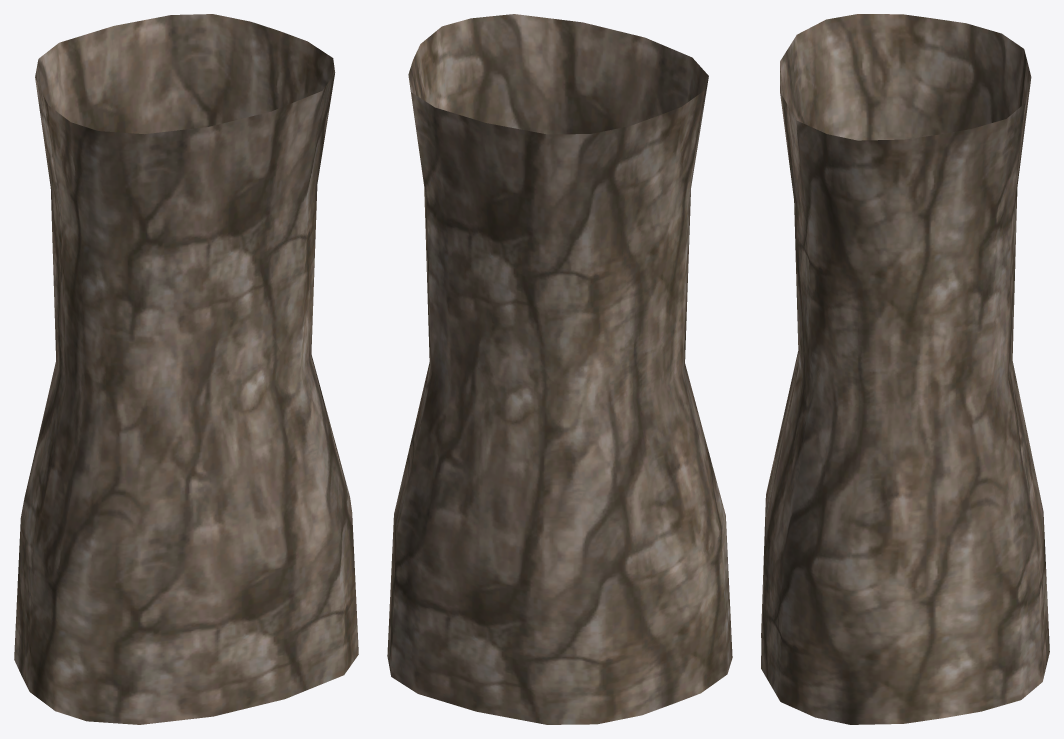
File: EKH_THRONE_PS_TH_WALL_178.fbx
3 views of the same model, side by side, from view 1: azimuth 30°, elevation 25°; view 2: azimuth 150°, elevation 25°; view 3: azimuth 270°, elevation 25° (orthographic).
Visible parts, largest first — view 1: EKH_THRONE_PS_TH_WALL_178; view 2: EKH_THRONE_PS_TH_WALL_178; view 3: EKH_THRONE_PS_TH_WALL_178.
Part boxes in pixels (x1,y1,x2,y2): EKH_THRONE_PS_TH_WALL_178: [14, 14, 358, 724]; EKH_THRONE_PS_TH_WALL_178: [387, 14, 732, 724]; EKH_THRONE_PS_TH_WALL_178: [761, 14, 1049, 724].
Size of the model in its own units: 55368 by 102121 by 46484.
1 material, 1 textured.
